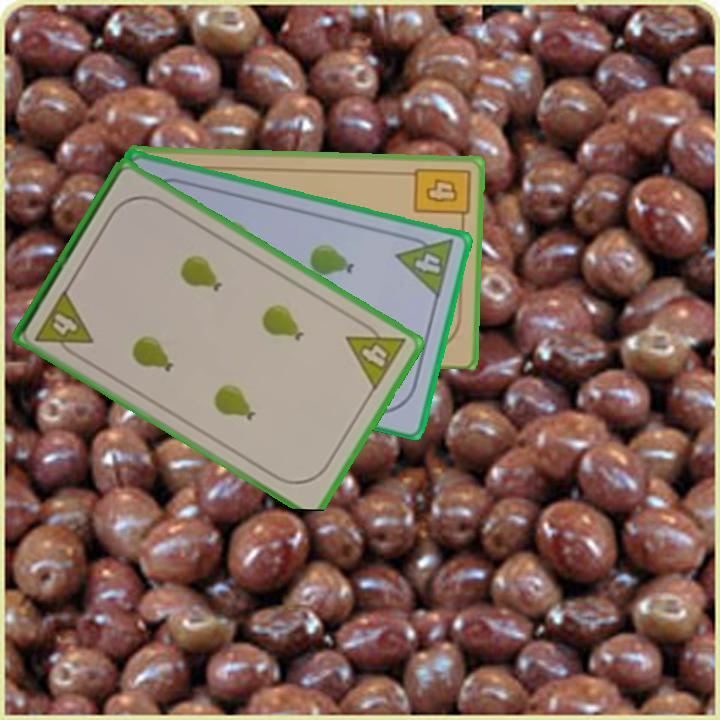4b: (410, 164, 473, 227)
4p: (342, 315, 410, 394), (31, 285, 96, 362), (393, 229, 457, 300)
